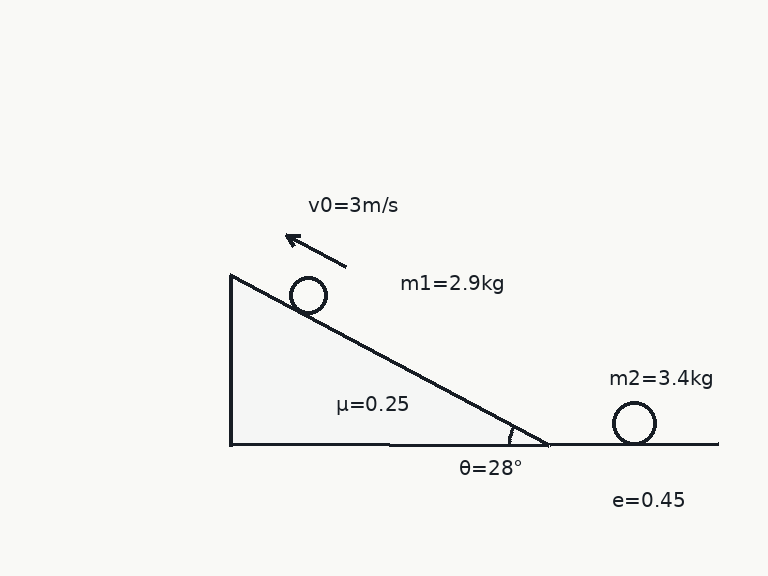ball: (610, 399, 658, 447), (287, 274, 329, 316)
ramp: (228, 274, 551, 447)
